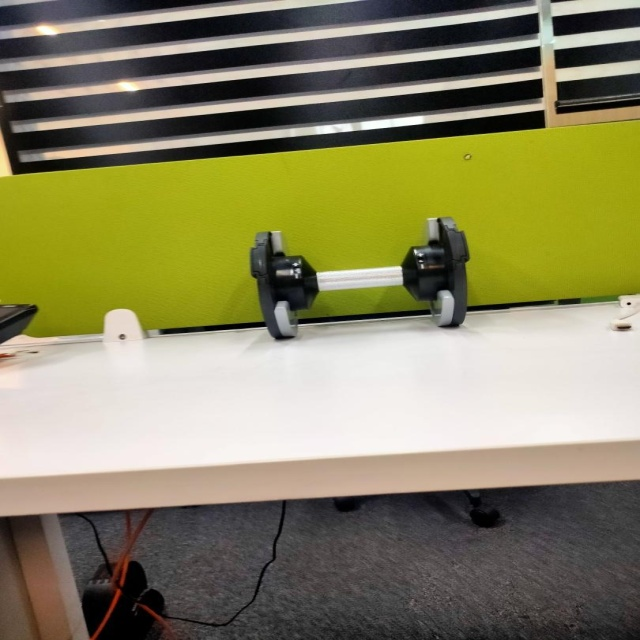02-4kg: (248, 216, 472, 339)
